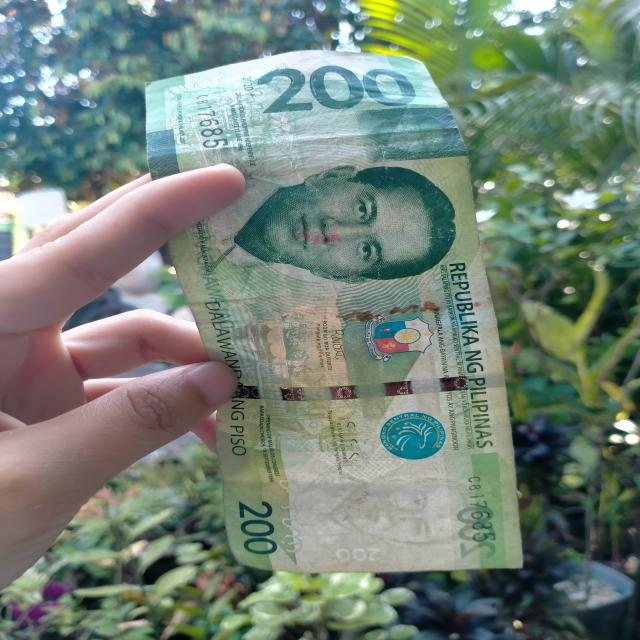concealed_value: (358, 104, 462, 159)
security_thread: (230, 367, 508, 403)
see_through_mark: (274, 471, 315, 562)
serial_number: (176, 80, 245, 168), (465, 470, 499, 550)
value: (257, 63, 418, 115)
value_watermark: (332, 542, 383, 568)
watermark: (293, 463, 477, 552)
